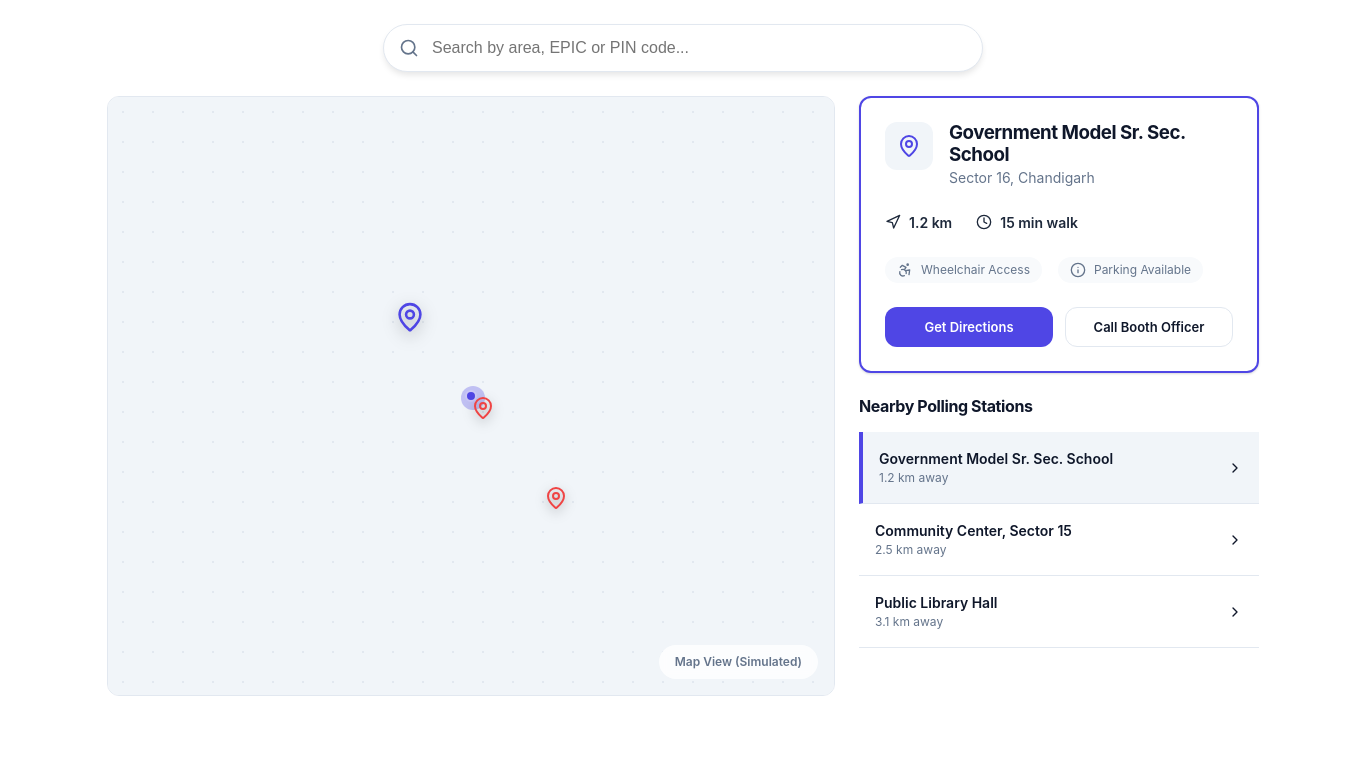
Test case: BoothLocator Component › shows error message for invalid PIN format
Enter an invalid 6-character PIN (contains letters)
Type "11A001" into the field with placeholder "Search by area, EPIC or PIN code..." at x=683, y=48, box [383,24,983,72]
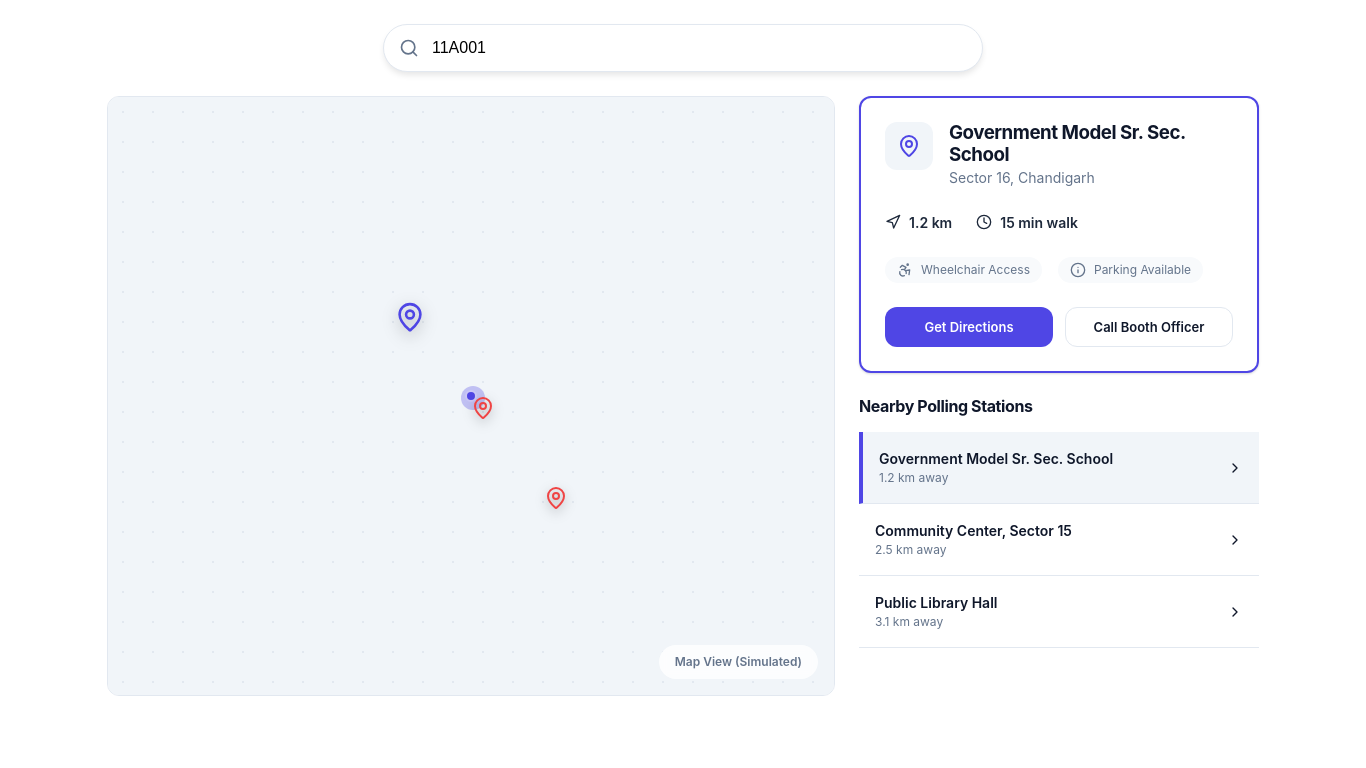
Press Enter in the field with placeholder "Search by area, EPIC or PIN code...", box [383,24,983,72]
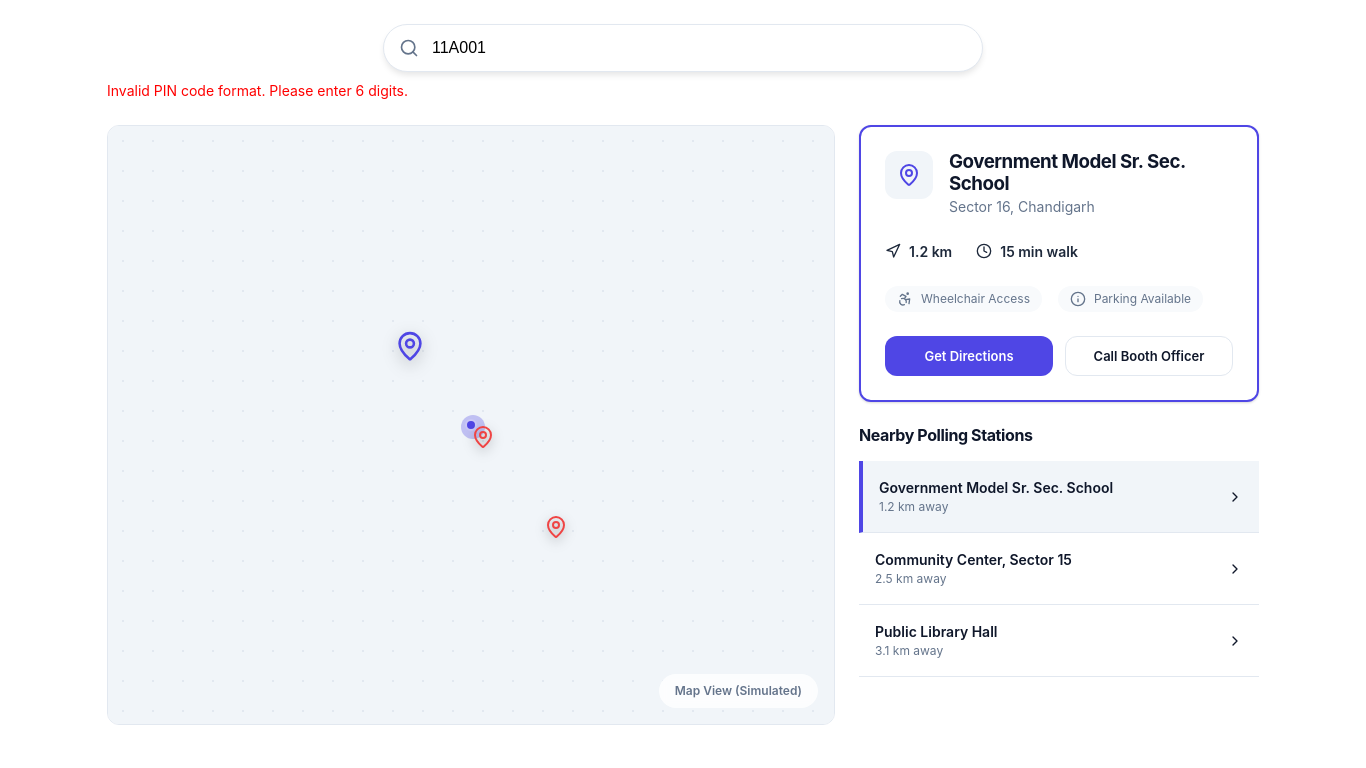
expect the text "Invalid PIN code format. Please enter 6 digits." is shown: met, box [107,82,408,99]
